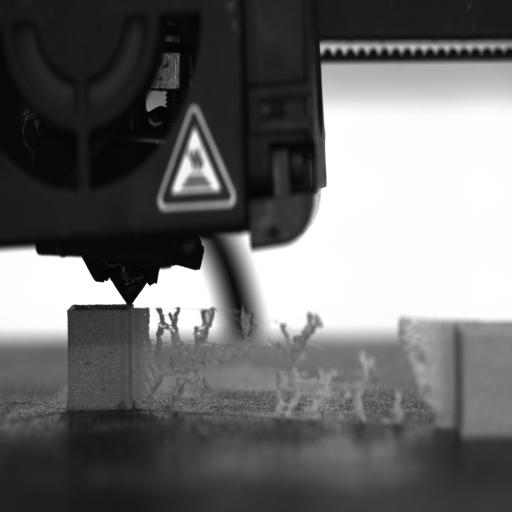spaghetti_and_stringing: (389, 312, 458, 427), (142, 309, 222, 407), (266, 312, 332, 412)
